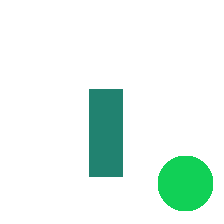circle: (158, 156, 212, 210)
rectangle: (89, 89, 122, 176)
